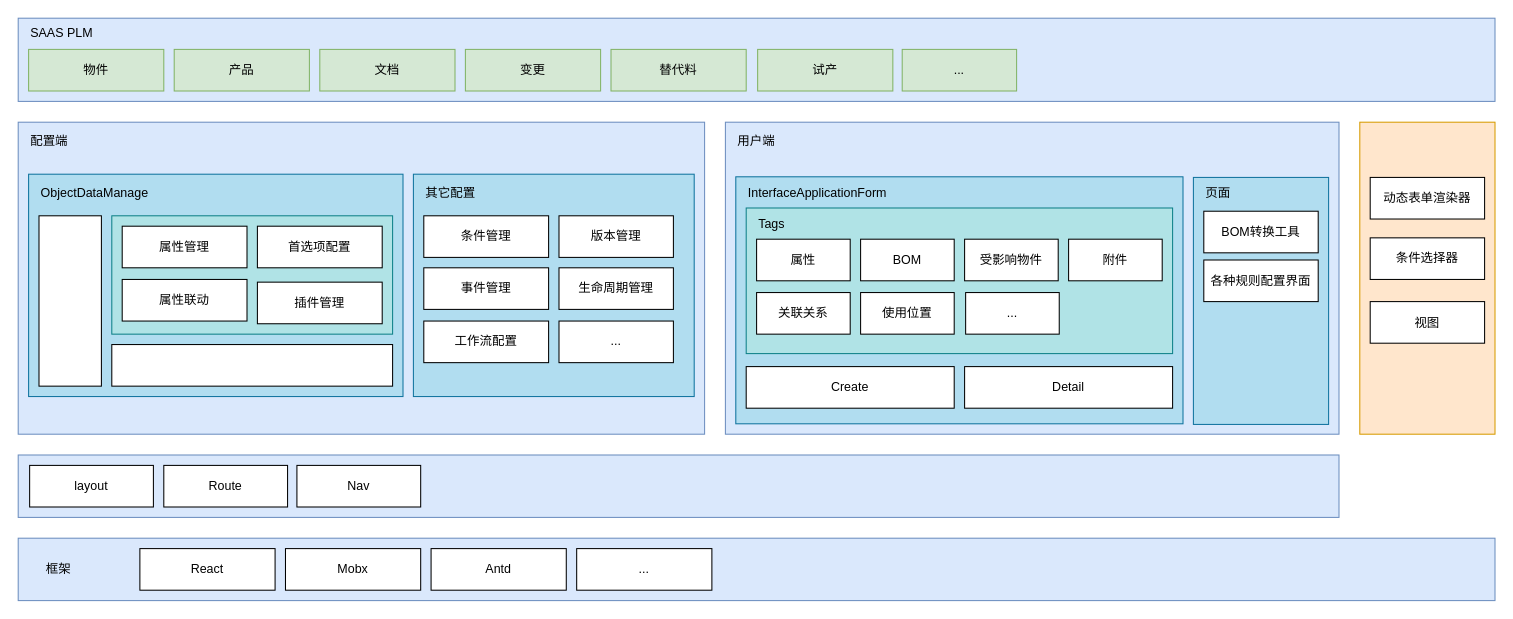
Some shapes in this 1513 by 619 pixel diagram are drawn without their labels. Here are the shapes that lost their labels. From the top down, the box of each, then its label:
(38, 215, 101, 386): 对象管理
(111, 344, 393, 386): 页签管理
